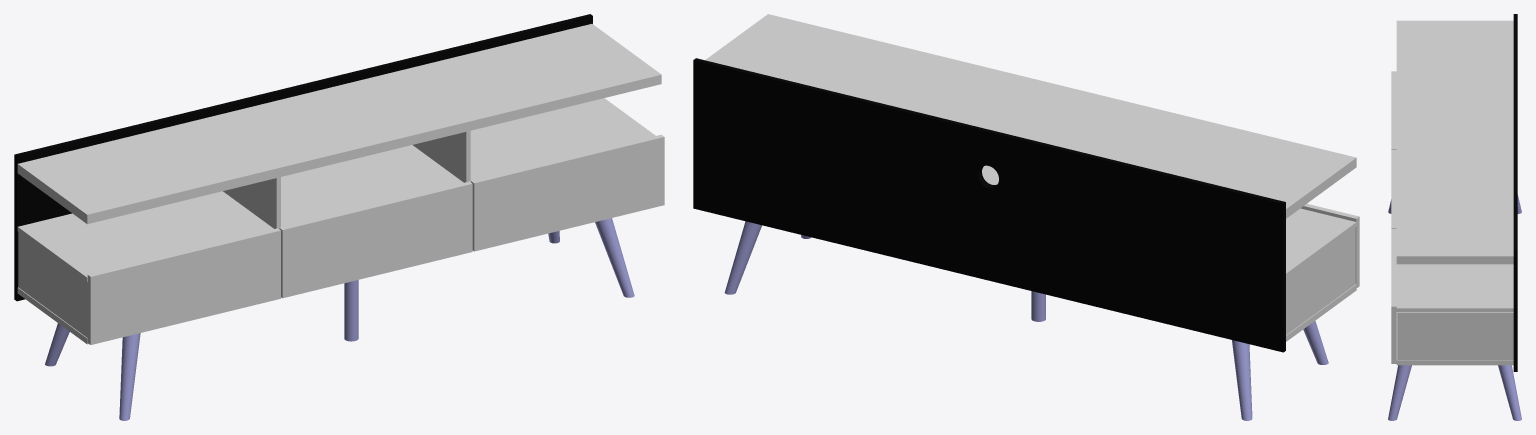
Rendered from RackGLTF.gltf.
3 renders of one model, left to right at view 1: azimuth 30°, elevation 25°; view 2: azimuth 150°, elevation 25°; view 3: azimuth 270°, elevation 25°, orthographic. The views are drawn at different scales.
Parts seen in each view (by area): view 1: Box001, Box002, Box008, Box010, Box009, Box003, Plane002, Box006, Box007, VIFS077, VIFS079, VIFS069; view 2: Box003, Box001, Plane002, Box002, VIFS073, VIFS075, Box008; view 3: Box001, Box002, Plane001, Box003, Box011, Box010, VIFS079, VIFS075, Box008, Box009.
Part boxes in pixels (x1=…): Box001: x1=17, y1=24, x2=661, y2=224; Box002: x1=17, y1=98, x2=655, y2=281; Box008: x1=87, y1=228, x2=280, y2=344; Box010: x1=471, y1=134, x2=664, y2=251; Box009: x1=279, y1=181, x2=472, y2=298; Box003: x1=14, y1=14, x2=592, y2=301; Plane002: x1=18, y1=232, x2=87, y2=337; Box006: x1=413, y1=131, x2=470, y2=182; Box007: x1=223, y1=177, x2=280, y2=228; VIFS077: x1=119, y1=333, x2=140, y2=420; VIFS079: x1=595, y1=218, x2=634, y2=297; VIFS069: x1=344, y1=280, x2=358, y2=341; Box003: x1=693, y1=58, x2=1285, y2=352; Box001: x1=705, y1=14, x2=1356, y2=218; Plane002: x1=1286, y1=227, x2=1355, y2=334; Box002: x1=982, y1=165, x2=1356, y2=277; VIFS073: x1=1232, y1=340, x2=1252, y2=420; VIFS075: x1=724, y1=221, x2=761, y2=294; Box008: x1=1300, y1=204, x2=1359, y2=287; Box001: x1=1396, y1=20, x2=1513, y2=264; Box002: x1=1396, y1=264, x2=1513, y2=311; Plane001: x1=1397, y1=312, x2=1513, y2=359; Box003: x1=1513, y1=14, x2=1517, y2=371; Box011: x1=1396, y1=312, x2=1513, y2=365; Box010: x1=1391, y1=228, x2=1396, y2=363; VIFS079: x1=1388, y1=365, x2=1411, y2=420; VIFS075: x1=1498, y1=365, x2=1521, y2=420; Box008: x1=1391, y1=71, x2=1396, y2=149; Box009: x1=1391, y1=150, x2=1396, y2=228.
Size of the model in its own units: 4.06 by 1.47 by 0.974.
